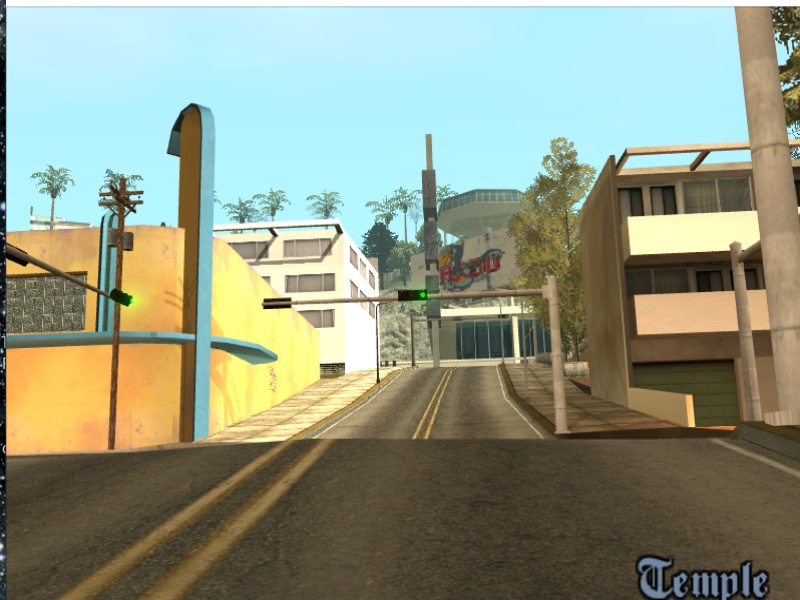pole: (722, 253, 763, 423), (543, 288, 577, 435), (112, 199, 125, 458), (517, 301, 531, 403), (373, 307, 383, 385), (407, 313, 418, 368)
